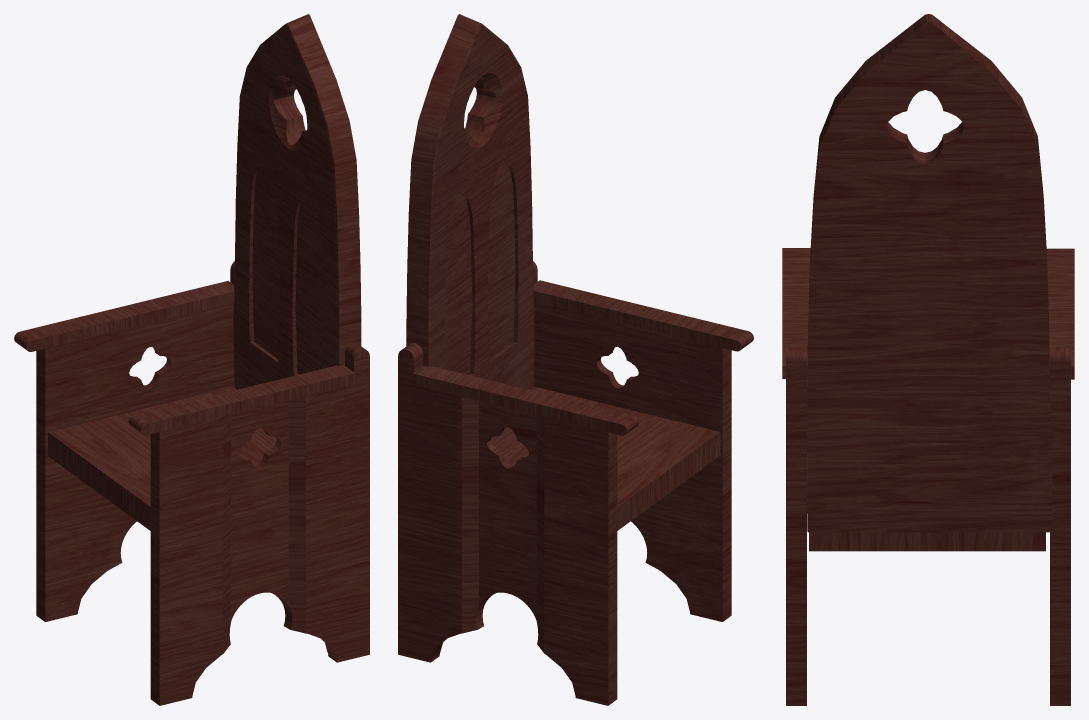
File: chair 1.fbx
3 renders of one model, left to right at view 1: azimuth 30°, elevation 25°; view 2: azimuth 150°, elevation 25°; view 3: azimuth 270°, elevation 25°, orthographic. The views are drawn at different scales.
Parts seen in each view (by area): view 1: pCylinder12; view 2: pCylinder12; view 3: pCylinder12.
Part boxes in pixels (x1=…): pCylinder12: x1=14, y1=14, x2=369, y2=705; pCylinder12: x1=398, y1=14, x2=753, y2=705; pCylinder12: x1=782, y1=14, x2=1074, y2=705.
Bounding box in the file's own units: 1.02 × 2.49 × 0.9633.
Materials: 1 (1 with a texture image).
